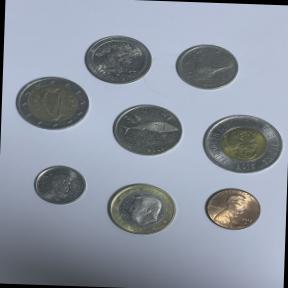coin: (192, 104, 288, 182), (99, 176, 185, 242), (106, 97, 188, 163), (12, 72, 92, 134), (80, 31, 155, 88), (197, 181, 267, 235), (28, 159, 90, 210)
